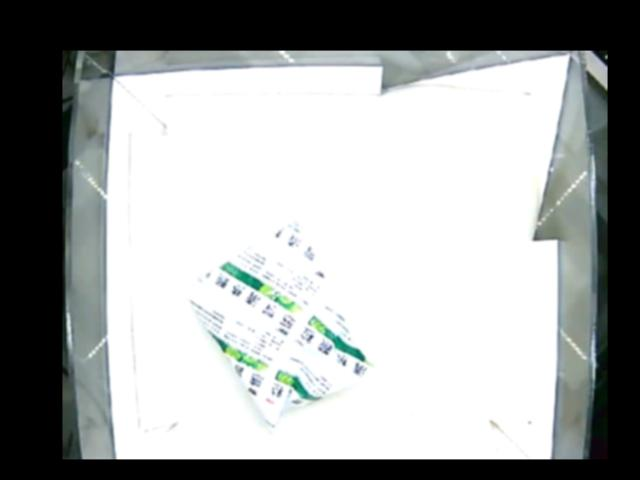Medicine: (183, 222, 370, 426)
